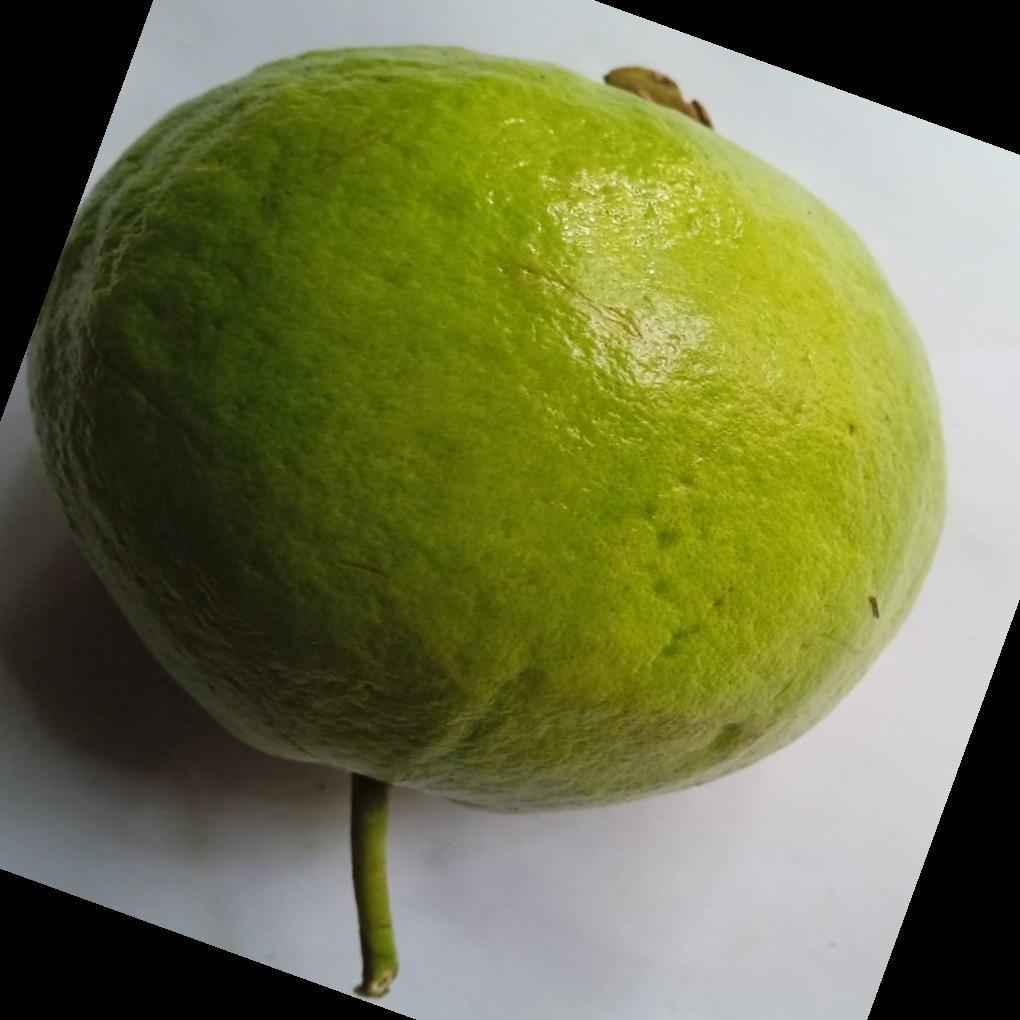FreshGuava: (18, 44, 951, 818)
